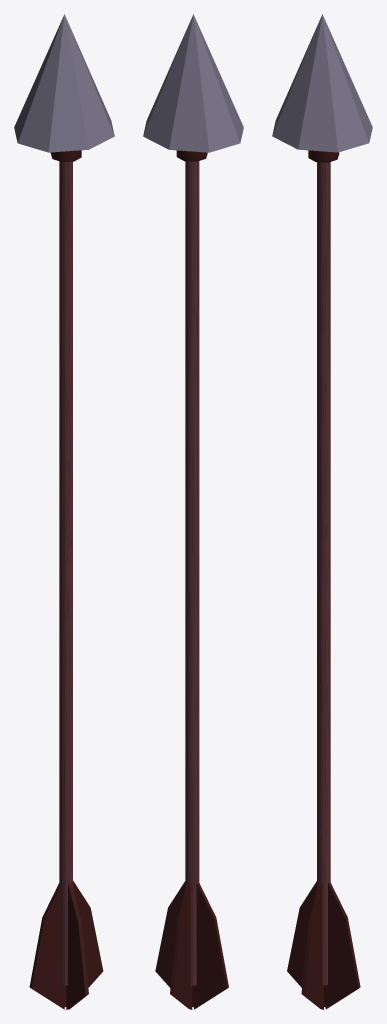
The model's file is flechafinal.fbx.
3 views of the same model, side by side, from view 1: azimuth 30°, elevation 25°; view 2: azimuth 150°, elevation 25°; view 3: azimuth 330°, elevation 25° (orthographic).
Parts seen in each view (by area): view 1: polySurface3; view 2: polySurface3; view 3: polySurface3.
Boxes of the visible parts, box(x1,y1,x2,y2) form: polySurface3: box(14, 14, 114, 1009); polySurface3: box(143, 14, 243, 1009); polySurface3: box(272, 14, 372, 1009).
Size of the model in its own units: 15.62 by 158 by 14.09.
Materials: 4 (1 with a texture image).
